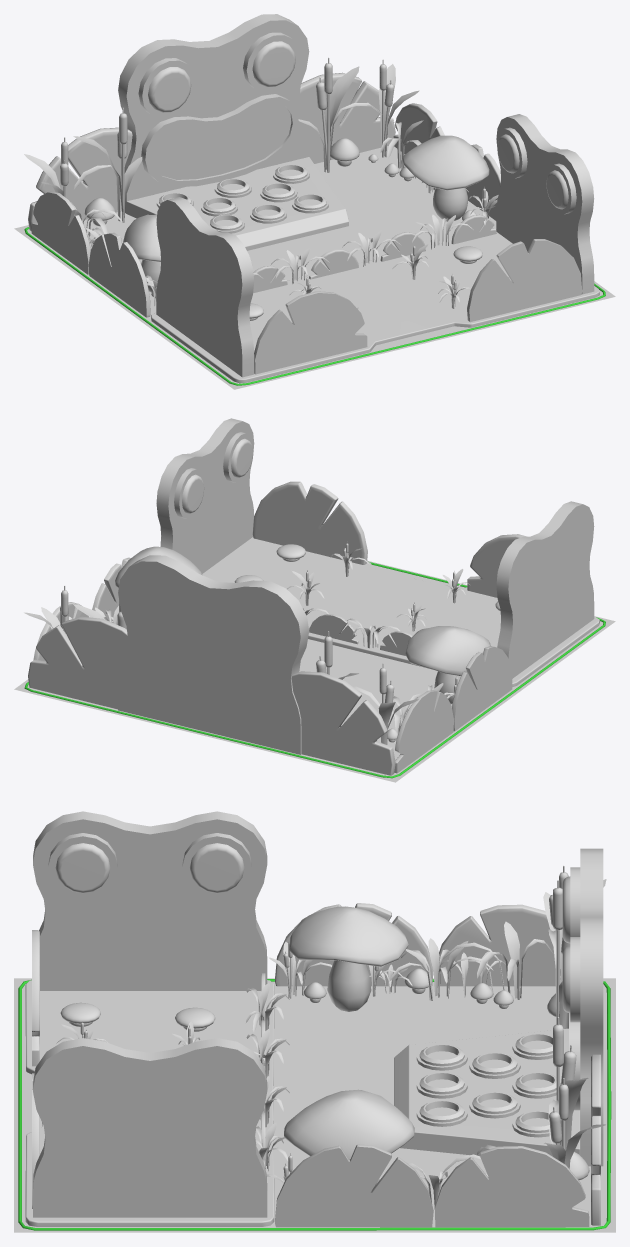
Rendered from obj_draft.gltf.
3 renders of one model, top to bottom at view 1: azimuth 30°, elevation 25°; view 2: azimuth 150°, elevation 25°; view 3: azimuth 270°, elevation 25°, orthographic. The views are drawn at different scales.
Parts seen in each view (by area): view 1: pCylinder34.001, obj_floor.001, obj_ground.001, pCylinder35.001, pCylinder36.001, polySurface11.001, pCylinder49.001, pCylinder61.001, pasted__polySurface405.003, pCylinder45.003, pCylinder45.002, pCylinder90.002 (+21 smaller); view 2: pCylinder34.001, obj_floor.001, pCylinder35.001, pCylinder36.001, obj_ground.001, pCylinder45.002, pCylinder45.003, pCylinder49.001, pasted__polySurface405.002, pCylinder90.002, pCylinder89.002, obj_railings.001 (+5 smaller); view 3: pCylinder36.001, pCylinder35.001, obj_ground.001, obj_floor.001, pCylinder90.003, pCylinder89.003, polySurface11.001, pCylinder34.001, pasted__polySurface405.002, pCylinder89.002, pasted__polySurface405.003, obj_railings.001 (+18 smaller).
Boxes of the visible parts, x1,y1,x2,y2 form: pCylinder34.001: (118,14,309,213); obj_floor.001: (151,232,599,383); obj_ground.001: (14,146,615,389); pCylinder35.001: (156,197,254,377); pCylinder36.001: (496,114,594,294); polySurface11.001: (126,157,348,250); pCylinder49.001: (467,239,582,321); pCylinder61.001: (254,291,367,374); pasted__polySurface405.003: (402,135,489,220); pCylinder45.003: (299,72,395,163); pCylinder45.002: (28,127,132,231); pCylinder90.002: (88,232,150,317); pCylinder34.001: (118,555,309,754); obj_floor.001: (202,537,599,686); pCylinder35.001: (496,501,594,678); pCylinder36.001: (156,418,254,573); obj_ground.001: (14,560,615,782); pCylinder45.002: (291,671,395,775); pCylinder45.003: (28,616,127,709); pCylinder49.001: (252,481,367,564); pasted__polySurface405.002: (405,626,490,703); pCylinder90.002: (452,646,512,731); pCylinder89.002: (394,690,453,773); obj_railings.001: (24,562,605,778); pCylinder36.001: (33,1038,267,1217); pCylinder35.001: (33,811,267,990); obj_ground.001: (14,978,615,1232); obj_floor.001: (25,980,274,1226); pCylinder90.003: (275,1144,433,1227); pCylinder89.003: (435,1146,589,1227); polySurface11.001: (394,1028,580,1156); pCylinder34.001: (562,848,603,1166); pasted__polySurface405.002: (289,906,408,1011); pCylinder89.002: (438,904,555,986); pasted__polySurface405.003: (284,1089,414,1159); obj_railings.001: (18,979,611,1230).
Size of what is drawn, in the model's own units: 16 by 6.47 by 16.
